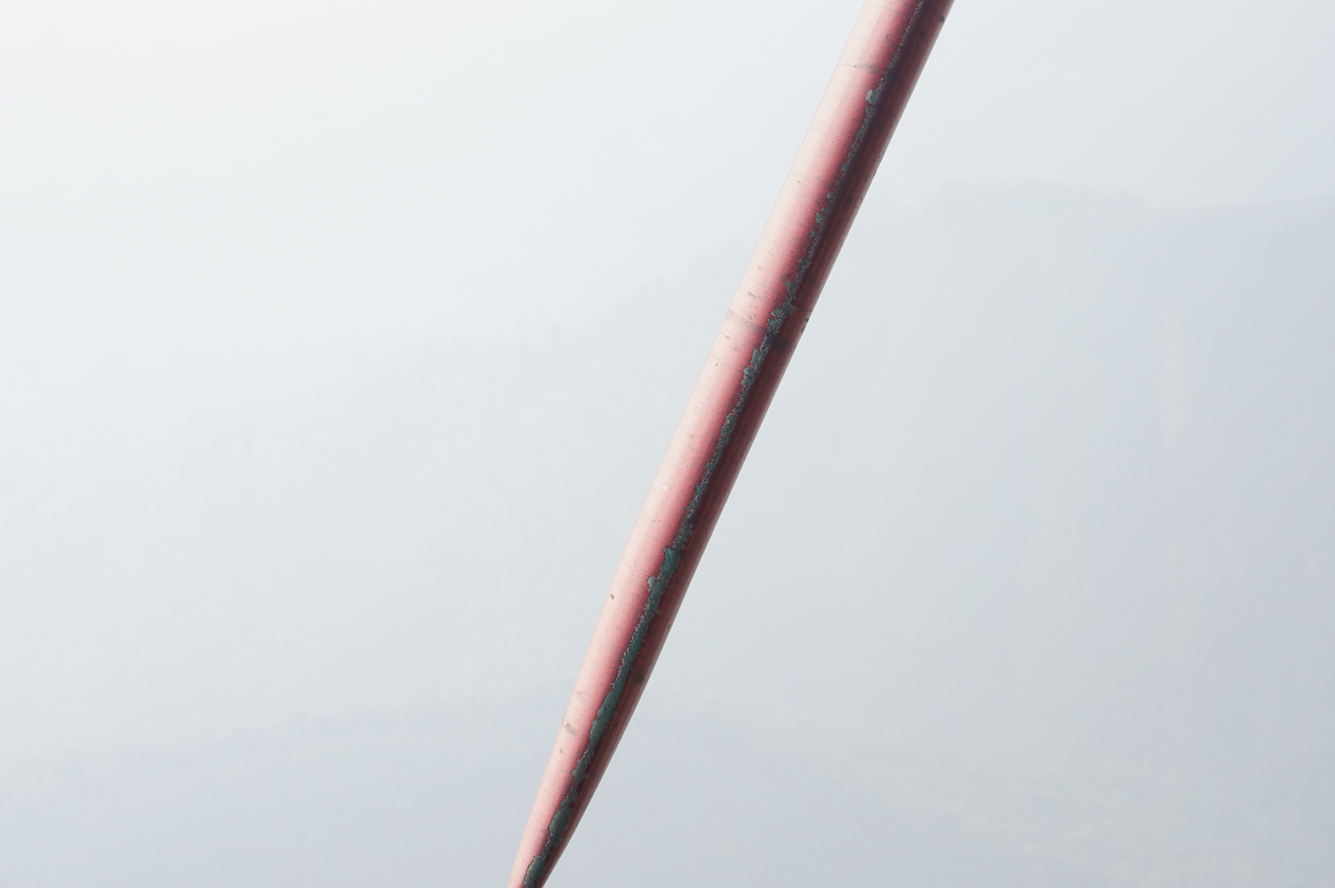Damage: (520, 223, 828, 885)
